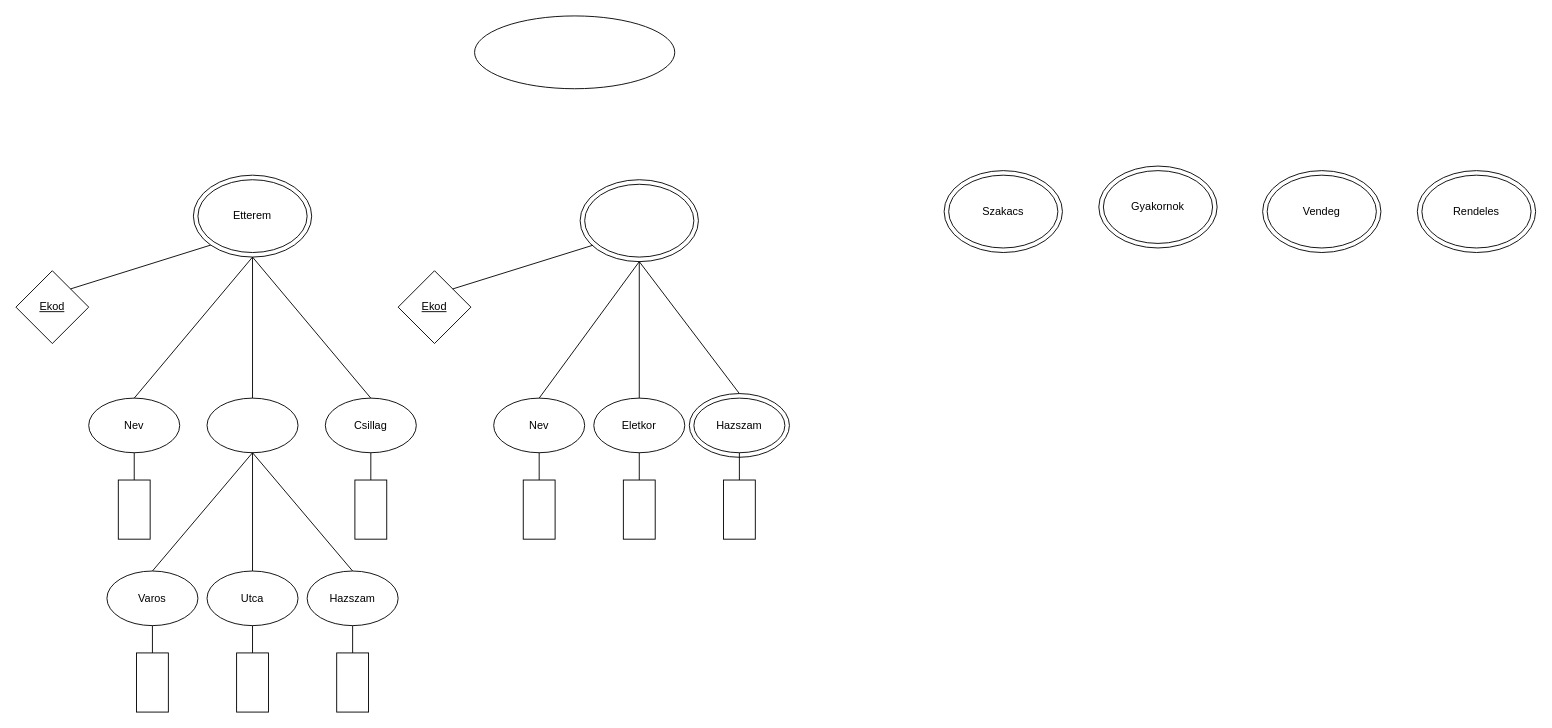
Image size: 1552x728. Some labels were removed from this diagram. The centre of each missing label's shape, as x and y in pixels:
"Cim" belongs at point 252,425.
"Foszakacs" belongs at point 639,220.
"IDA58U_Vendeglatas" belongs at point 574,52.
